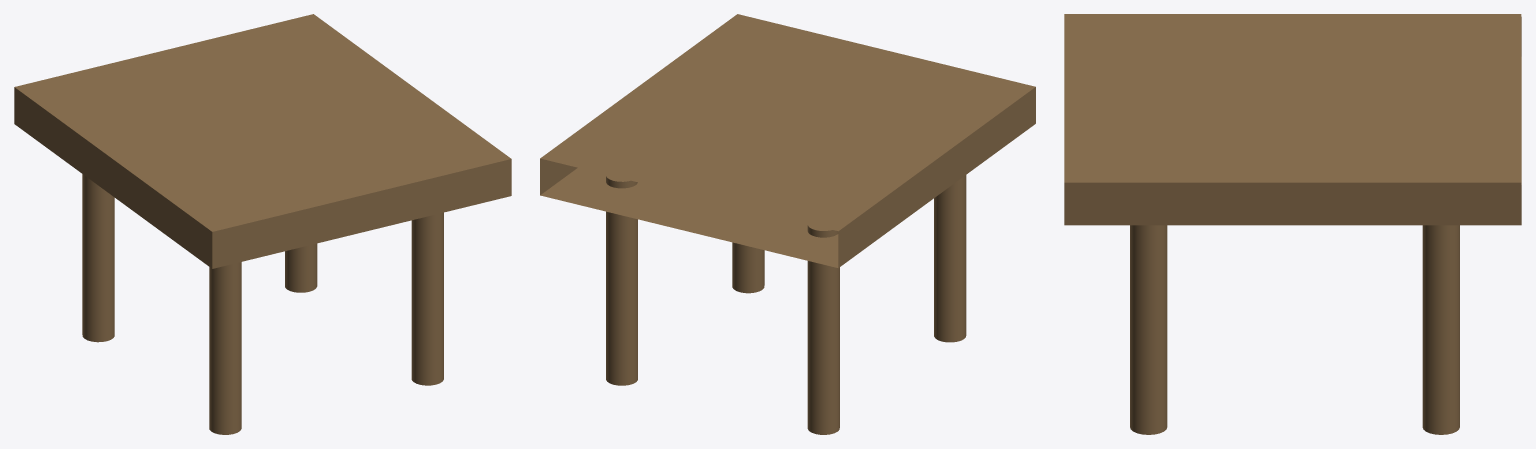
Rendered from table_Lv2.fbx.
3 renders of one model, left to right at view 1: azimuth 30°, elevation 25°; view 2: azimuth 150°, elevation 25°; view 3: azimuth 270°, elevation 25°, orthographic. The views are drawn at different scales.
Parts seen in each view (by area): view 1: table4, pCylinder28, pCylinder29, pCylinder27, pCylinder30; view 2: table4, pCylinder27, pCylinder30, pCylinder28, pCylinder29; view 3: table4, pCylinder30, pCylinder29.
Part boxes in pixels (box(x1,y1,x2,y2)): table4: box(14, 14, 511, 268); pCylinder28: box(209, 262, 241, 434); pCylinder29: box(411, 212, 443, 385); pCylinder27: box(82, 174, 114, 342); pCylinder30: box(285, 243, 317, 292); table4: box(540, 14, 1035, 268); pCylinder27: box(807, 224, 839, 434); pCylinder30: box(606, 174, 637, 385); pCylinder28: box(934, 175, 966, 342); pCylinder29: box(732, 242, 764, 293); table4: box(1064, 14, 1521, 225); pCylinder30: box(1422, 225, 1459, 434); pCylinder29: box(1130, 225, 1167, 434).
Size of the model in its own units: 73.67 by 55.28 by 84.44.
